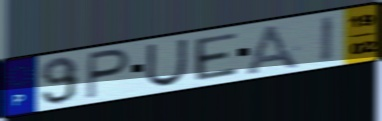9: (40, 55, 80, 107)
A: (241, 22, 303, 75)
E: (192, 30, 240, 82)
I: (319, 13, 336, 66)
P: (84, 47, 133, 102)
U: (143, 37, 190, 89)
